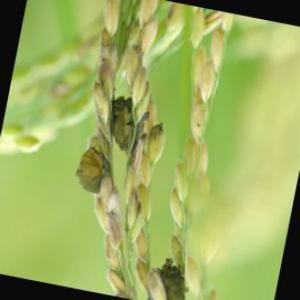Leaf_Scald: (111, 94, 139, 152), (159, 259, 195, 300), (77, 150, 111, 193)
